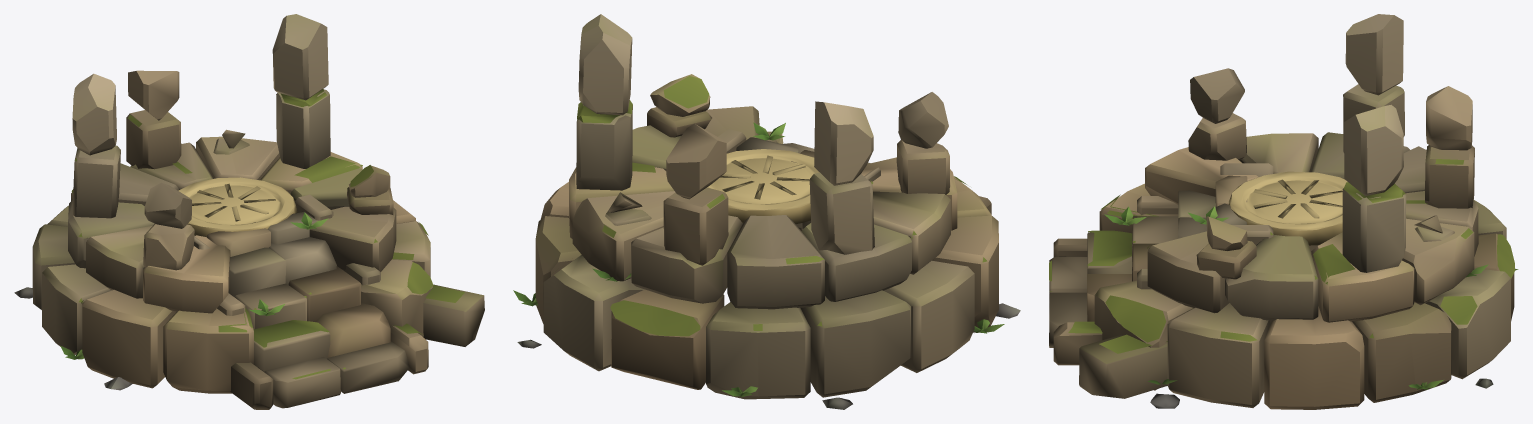
Rendered from building-oldFoundation-low.glb.
3 renders of one model, left to right at view 1: azimuth 30°, elevation 25°; view 2: azimuth 150°, elevation 25°; view 3: azimuth 270°, elevation 25°, orthographic. The views are drawn at different scales.
Visible parts, largest first — view 1: 0_oldFoundation; view 2: 0_oldFoundation; view 3: 0_oldFoundation.
Part boxes in pixels (left/top/right/bottom): 0_oldFoundation: left=14, top=14, right=484, bottom=409; 0_oldFoundation: left=513, top=14, right=1020, bottom=409; 0_oldFoundation: left=1049, top=14, right=1518, bottom=409.
Size of the model in its own units: 1.81 by 1.18 by 1.86.
